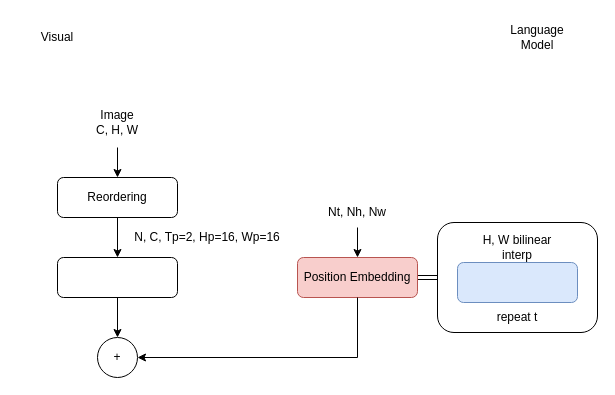
Some shapes in this 615 by 395 pixel diagram are drawn without their labels. Here are the shapes that lost their labels. From the top down, the box of each, then its label:
(56, 256, 178, 298): Conv3D 3 -> 1152
(456, 262, 578, 302): Embedding 48x48
